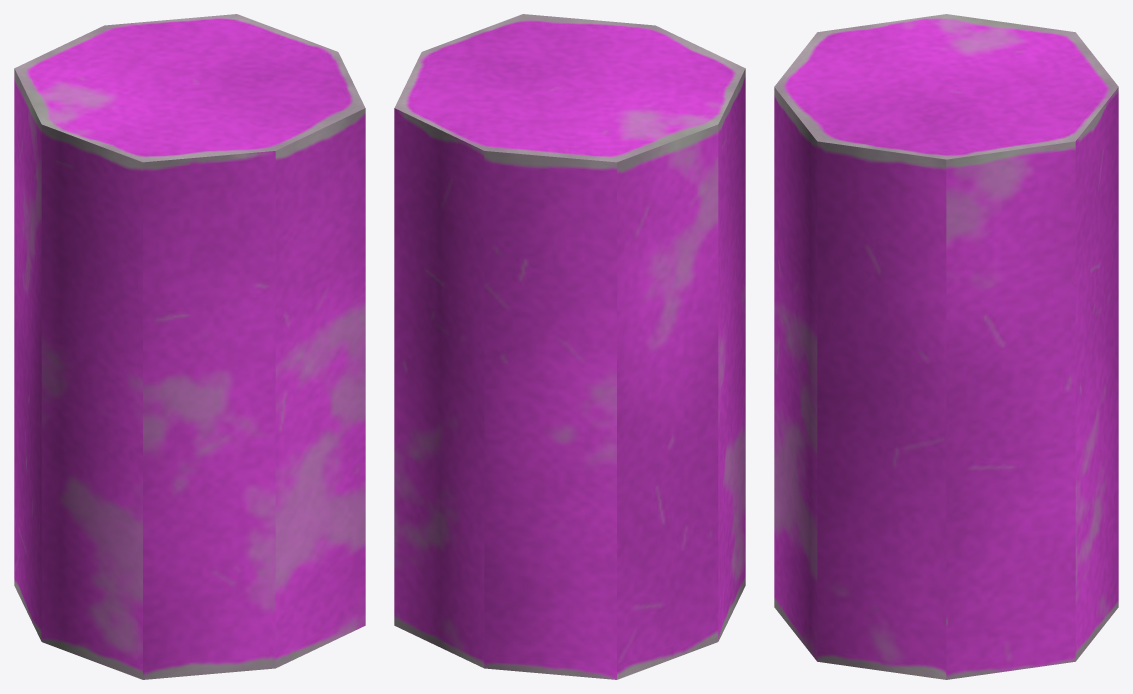
The model's file is bullet-foam-thick.glb.
The picture shows the model from 3 angles, left to right: view 1: azimuth 30°, elevation 25°; view 2: azimuth 150°, elevation 25°; view 3: azimuth 270°, elevation 25°; orthographic projection.
Parts seen in each view (by area): view 1: bullet-foam-thick; view 2: bullet-foam-thick; view 3: bullet-foam-thick.
Boxes of the visible parts, x1=… form: bullet-foam-thick: x1=14, y1=14, x2=365, y2=679; bullet-foam-thick: x1=394, y1=14, x2=745, y2=679; bullet-foam-thick: x1=774, y1=14, x2=1118, y2=679.
Bounding box in the file's own units: 0.03 × 0.05 × 0.03.
Materials: 1 (1 with a texture image).
